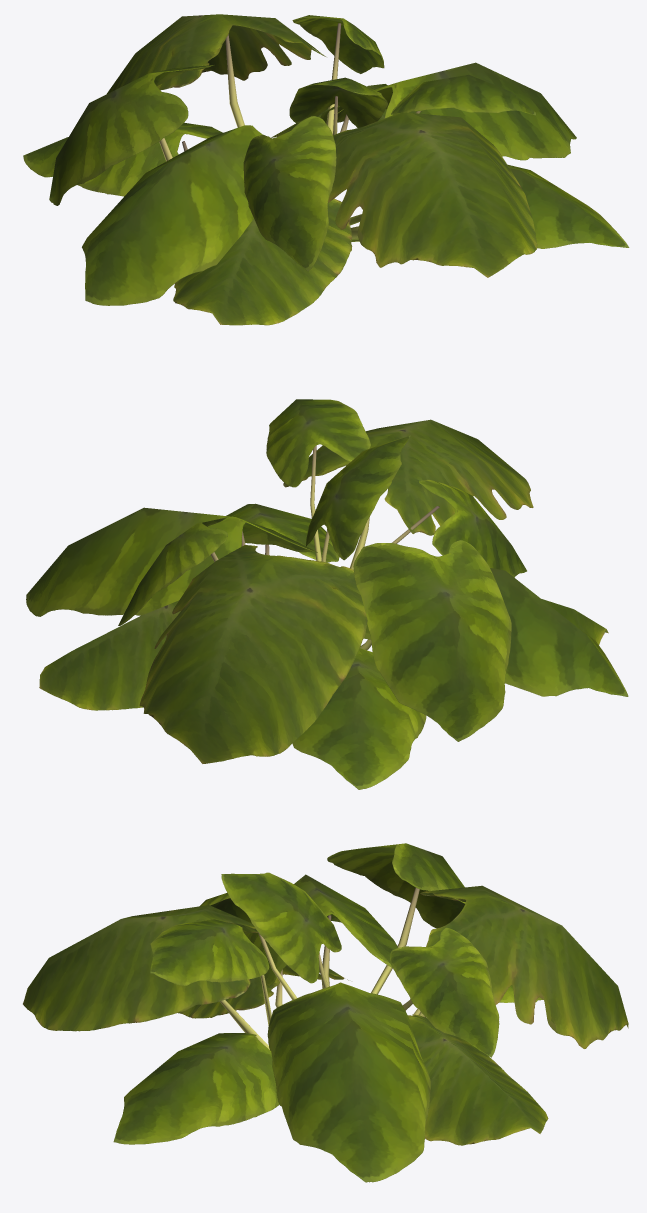
3 views of the same model, one above another, from view 1: azimuth 30°, elevation 25°; view 2: azimuth 150°, elevation 25°; view 3: azimuth 270°, elevation 25° (orthographic). The views are drawn at different scales.
Visible parts, largest first — view 1: Plane.031; view 2: Plane.031; view 3: Plane.031.
Part boxes in pixels (x1=…): Plane.031: x1=23, y1=14, x2=629, y2=325; Plane.031: x1=26, y1=399, x2=628, y2=789; Plane.031: x1=23, y1=843, x2=628, y2=1182.
Bounding box in the file's own units: 213 × 79.66 × 216.
